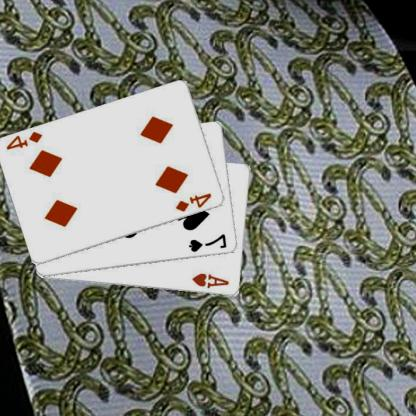4D: (175, 190, 215, 214), (6, 128, 45, 152)
7S: (188, 232, 230, 254)
AH: (192, 271, 232, 290)
